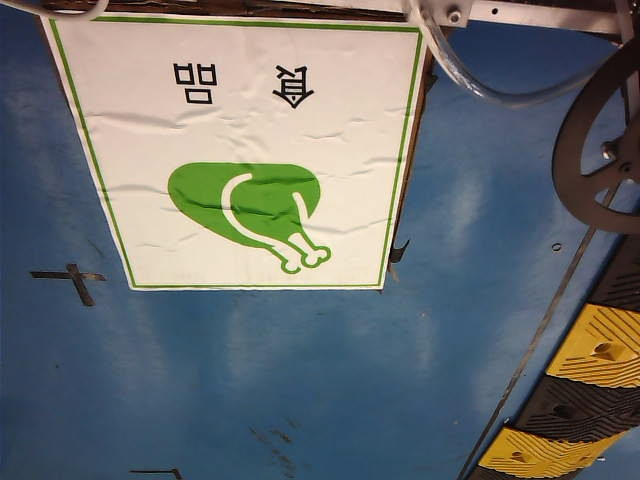Cube_food: (156, 50, 334, 282)
